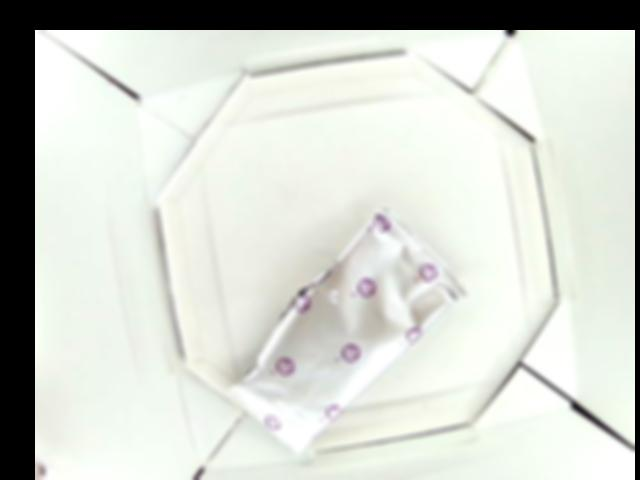Medicine: (227, 206, 466, 471)
